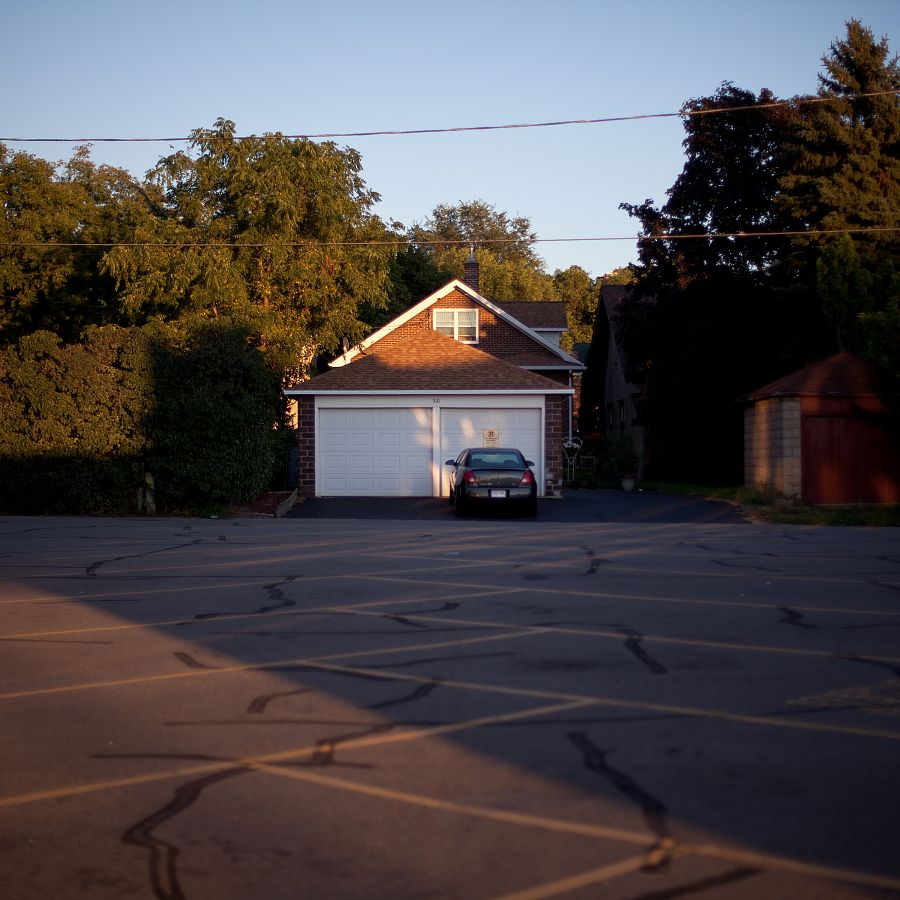empty_space: (247, 679, 899, 900), (5, 741, 674, 900), (1, 658, 596, 821), (307, 616, 900, 754), (1, 587, 549, 692)
